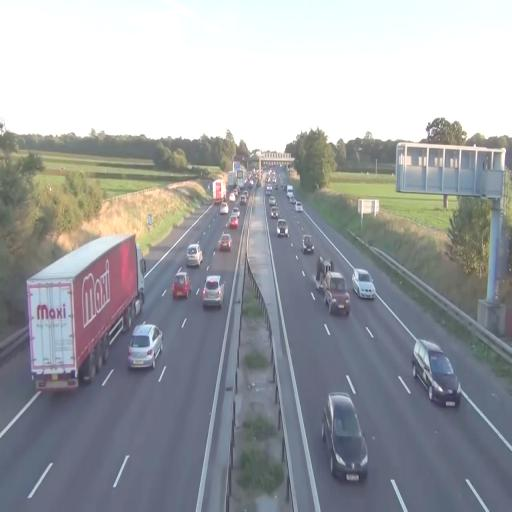vehicle: (26, 232, 145, 394), (322, 394, 370, 484), (412, 338, 461, 410), (412, 338, 461, 409), (127, 323, 163, 370), (324, 272, 351, 316), (201, 274, 223, 311), (352, 268, 375, 300), (172, 270, 190, 300), (186, 244, 203, 268), (213, 178, 226, 203), (216, 233, 232, 252), (302, 234, 314, 254), (228, 213, 240, 231), (276, 220, 288, 236)
